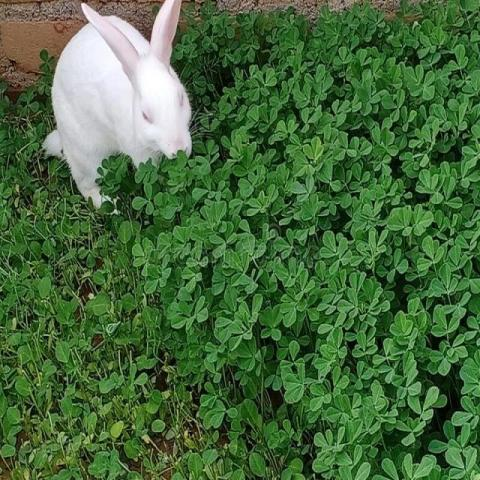small_animal: (40, 0, 195, 212)
